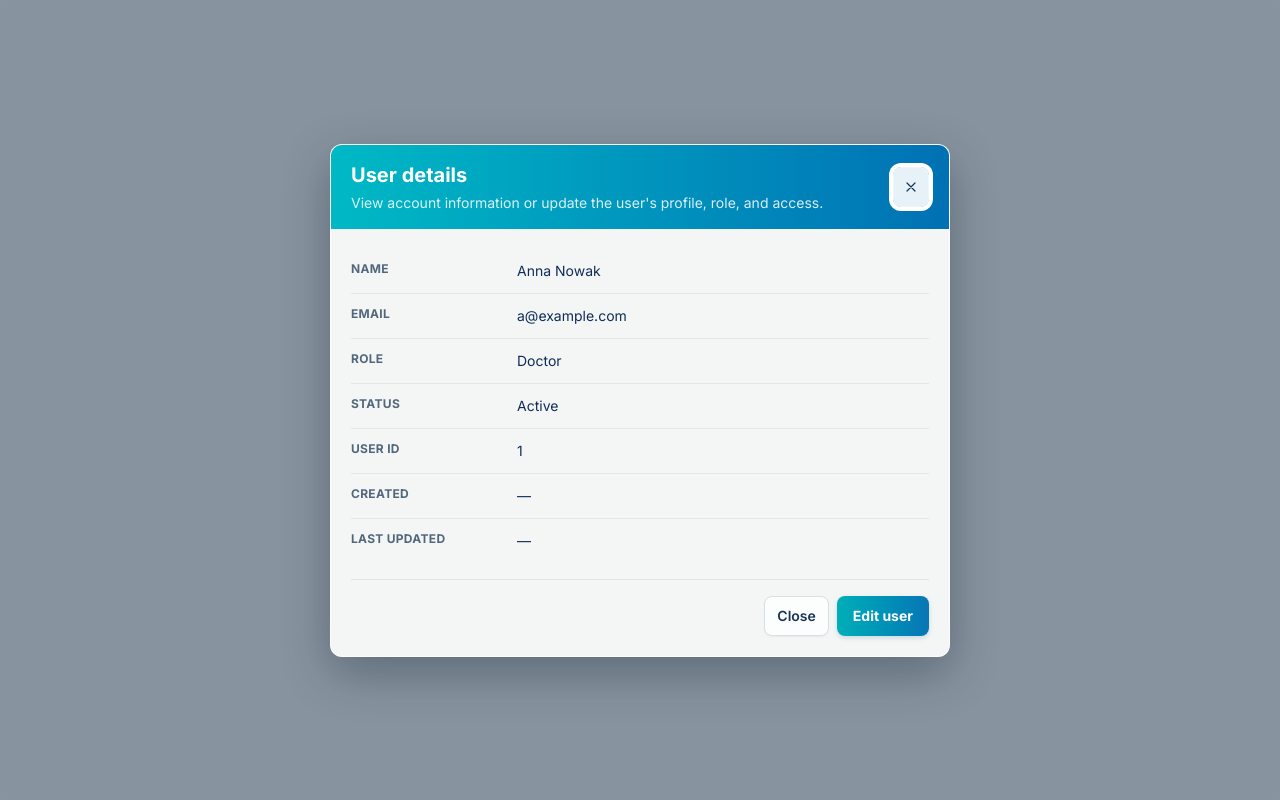
it: administrator detail dialogs › updates only changed user fields
Click the button "Edit user": (883, 616) [837,596,929,636]
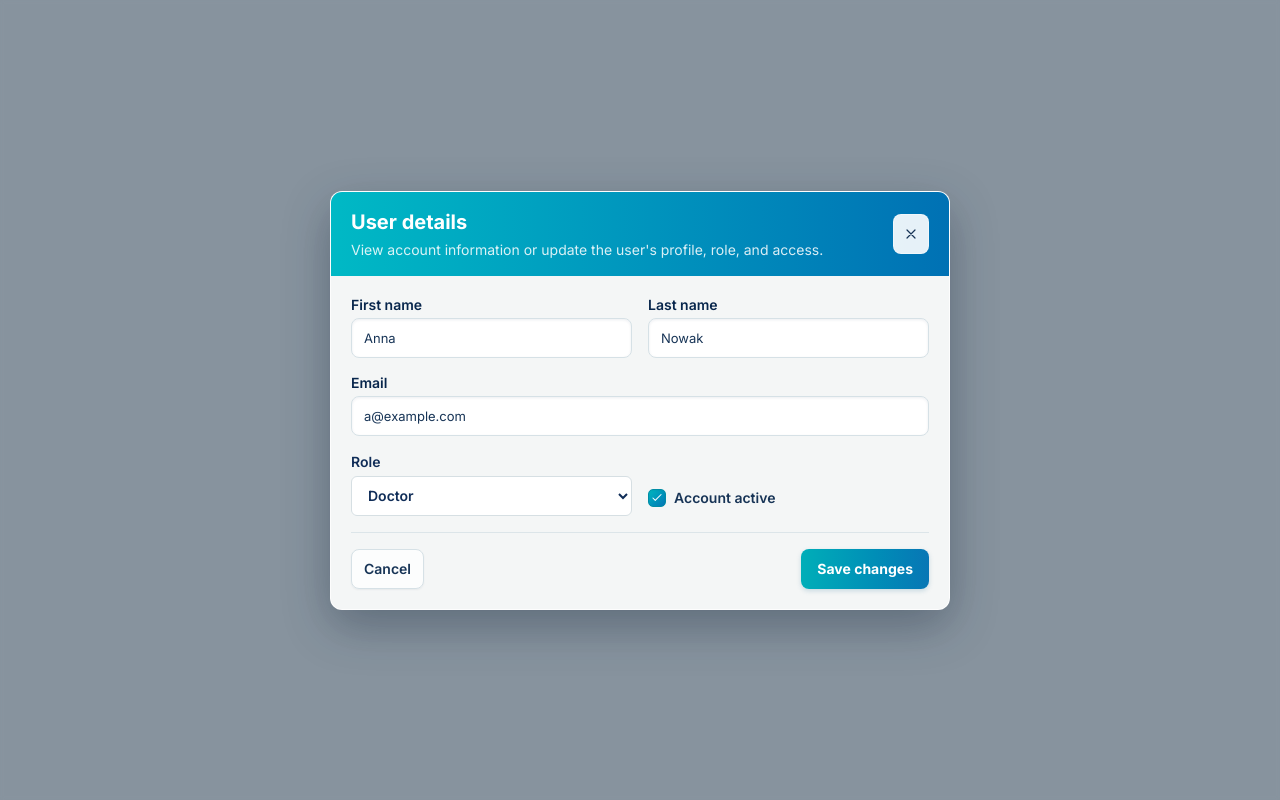
Click the checkbox labelled "Account active": (712, 498) [648,488,776,506]
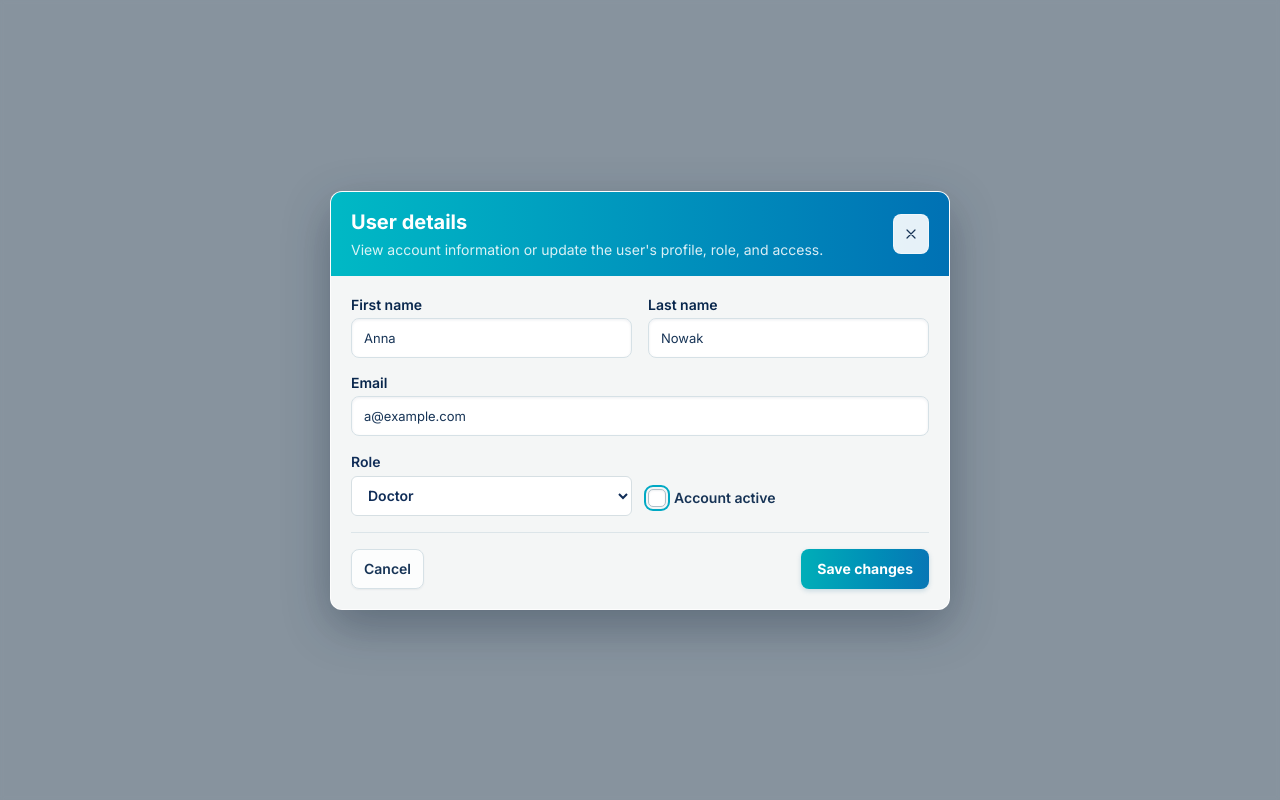
Click the button "Save changes": (865, 568) [801,548,929,588]
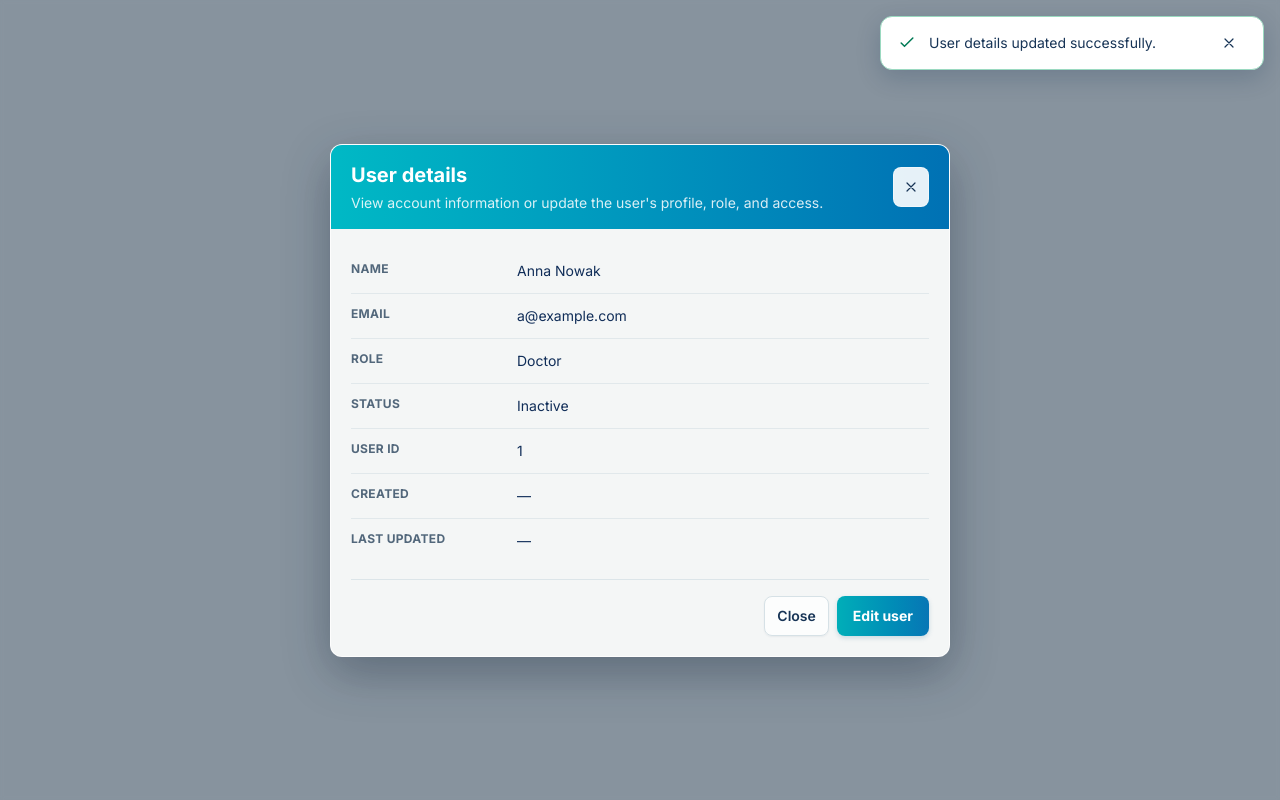
Result: the text "Inactive" is shown at [517,396,569,414]
